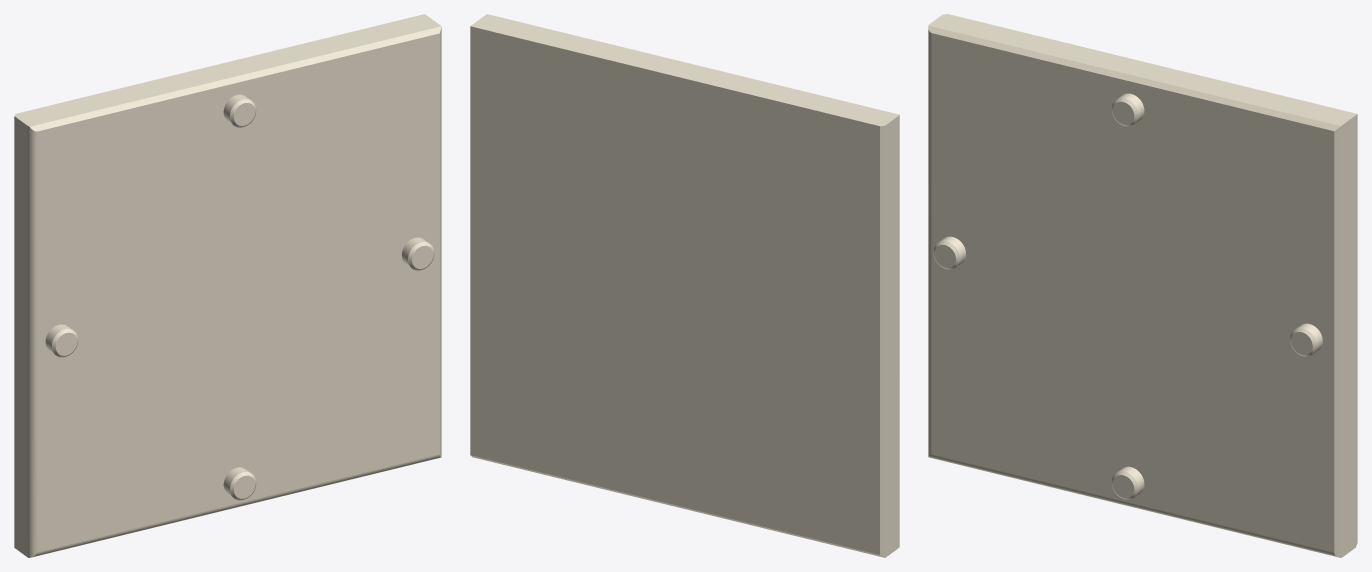
The model's file is section-gray-sw-ivory@ivory.glb.
The picture shows the model from 3 angles, left to right: view 1: azimuth 30°, elevation 25°; view 2: azimuth 150°, elevation 25°; view 3: azimuth 330°, elevation 25°; orthographic projection.
Visible parts, largest first — view 1: geometry_0; view 2: geometry_0; view 3: geometry_0.
Boxes of the visible parts, x1,y1,x2,y2 form: geometry_0: [14, 14, 441, 557]; geometry_0: [470, 14, 899, 557]; geometry_0: [928, 14, 1357, 557].
Bounding box in the file's own units: 49.8 × 49.8 × 5.6.
